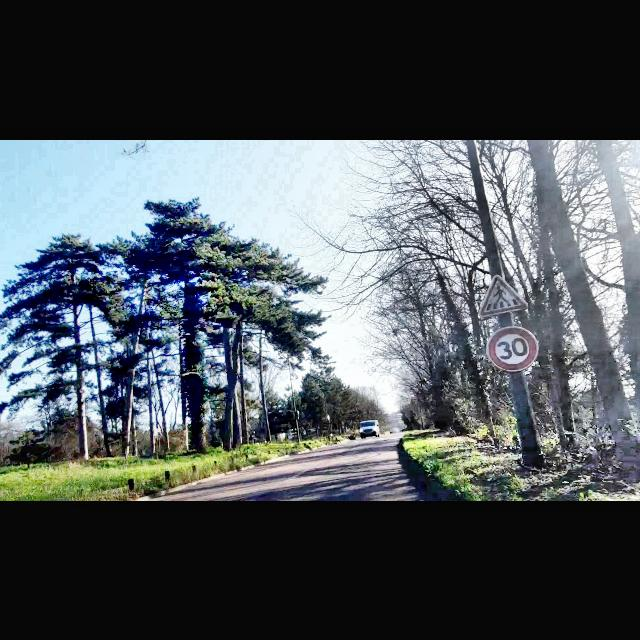speed_30: (487, 328, 539, 372)
